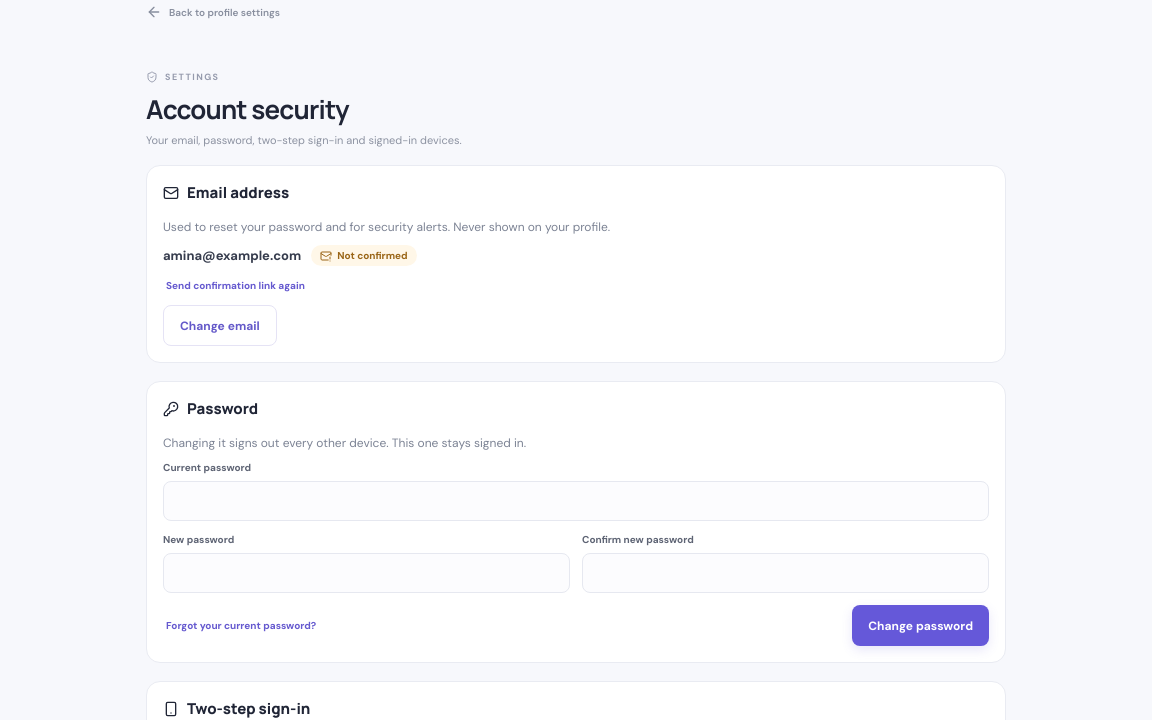
Test: AccountSecurityPage › changes the password and keeps this device signed in with the new token
Type "Original-pass-123" into the password field labelled "Current password". click: (576, 501)
box: [163,481,989,521]
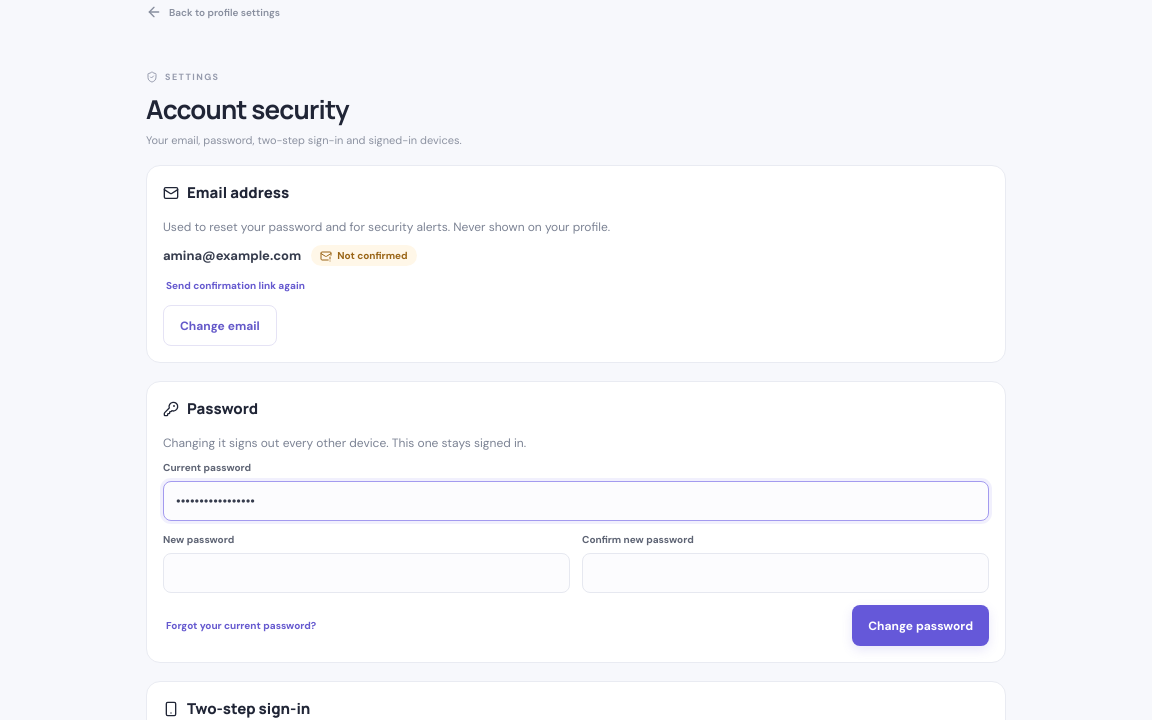
Type "Brand-new-pass-456" into the password field labelled "New password". click: (366, 573)
box: [163,553,570,593]
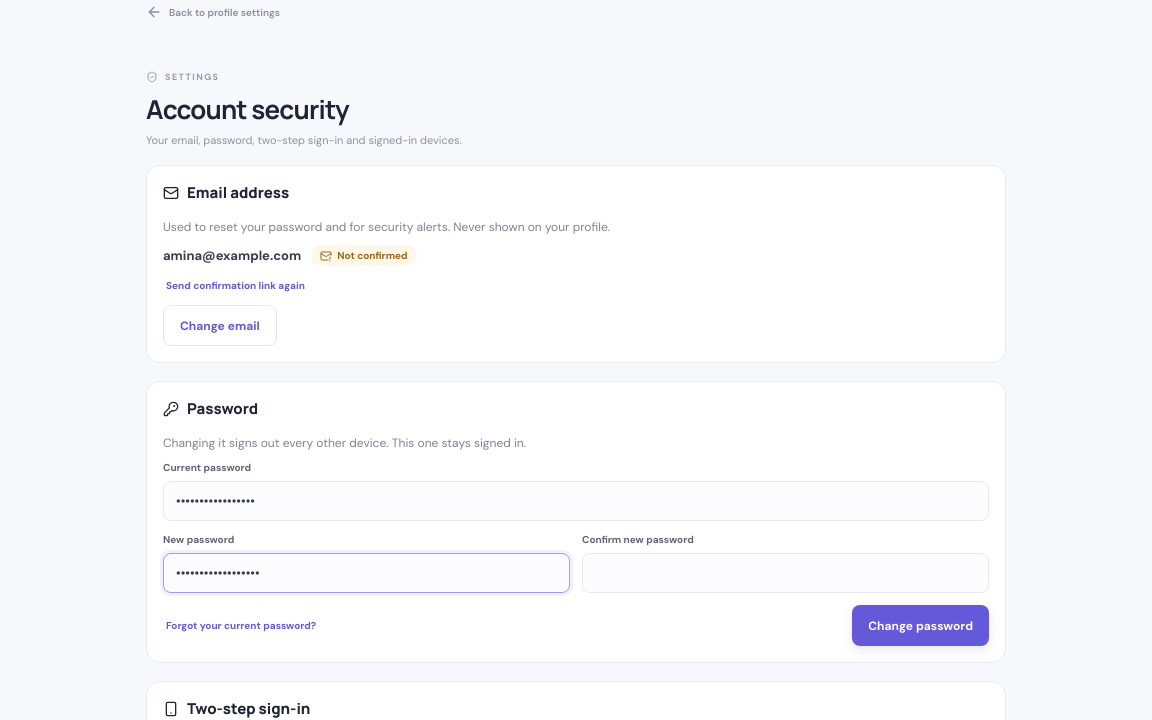
Type "Brand-new-pass-456" into the password field labelled "Confirm new password". click: (786, 573)
box: [582,553,989,593]
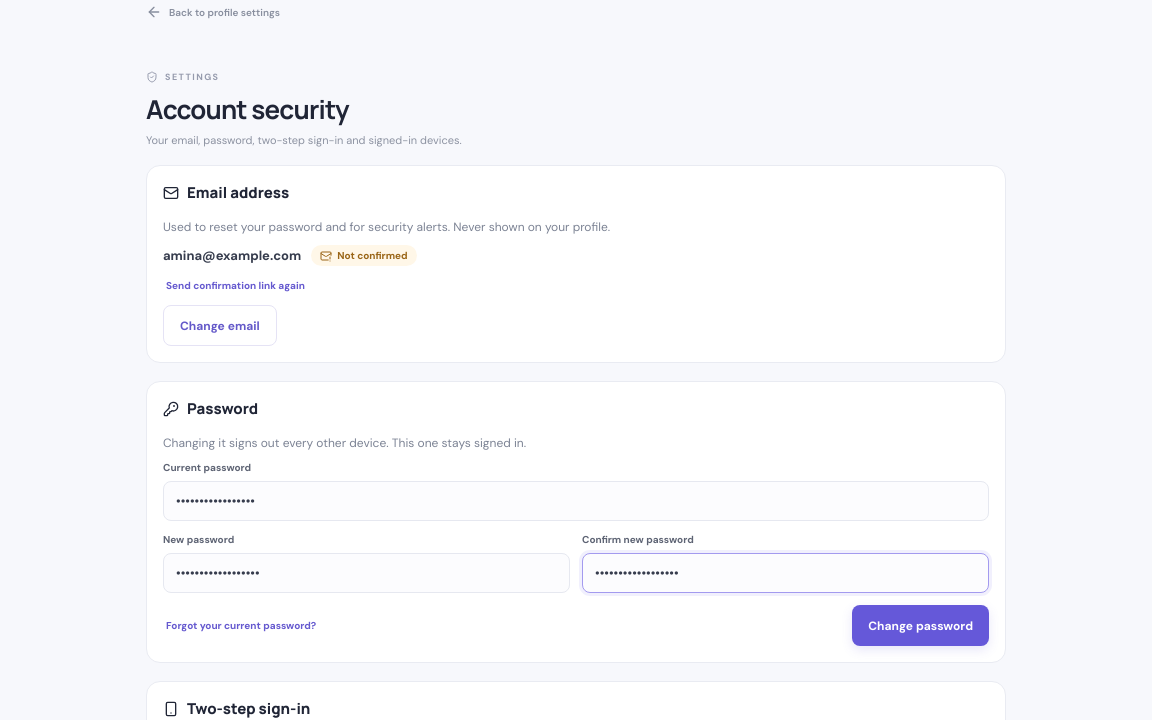
Click the button "Change password". click: (921, 626)
box: [852,605,989,646]
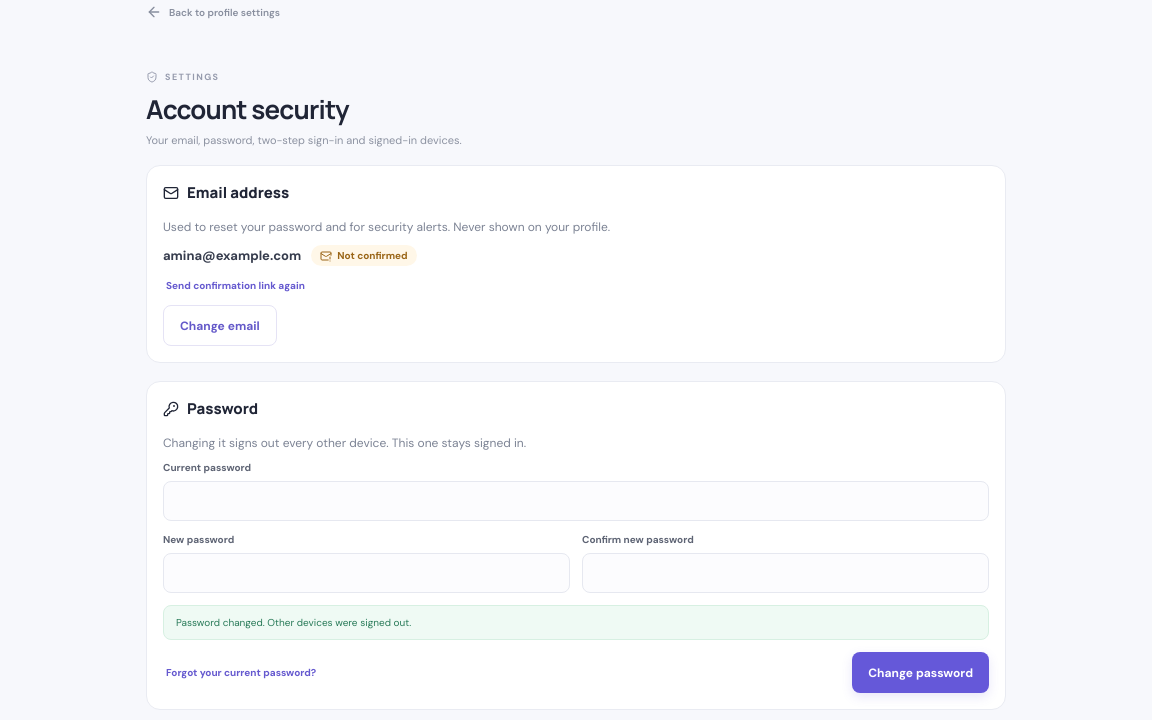
Expected: the text "Password changed. Other devices were signed out." is shown, [163,605,989,640]
Expected: the password field labelled "Current password" is empty, [163,481,989,521]
